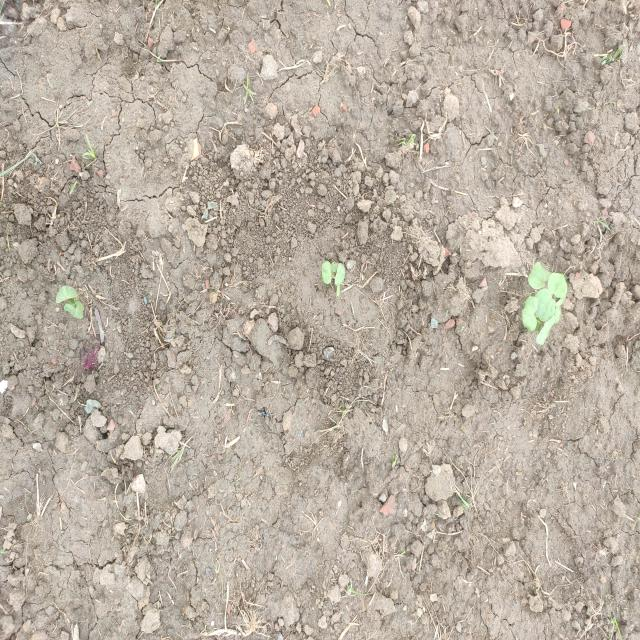seedling: (535, 288, 556, 320), (528, 262, 550, 289), (536, 316, 556, 345), (522, 296, 538, 332), (547, 272, 568, 298), (56, 285, 78, 303), (555, 294, 566, 324), (334, 263, 345, 286), (322, 261, 332, 284), (73, 300, 84, 319), (64, 304, 75, 315), (331, 262, 337, 273)
